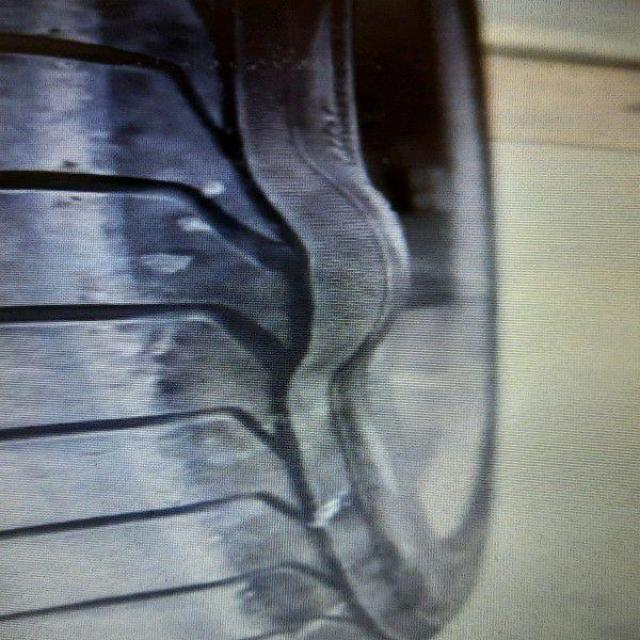Bulge: (177, 166, 460, 373)
